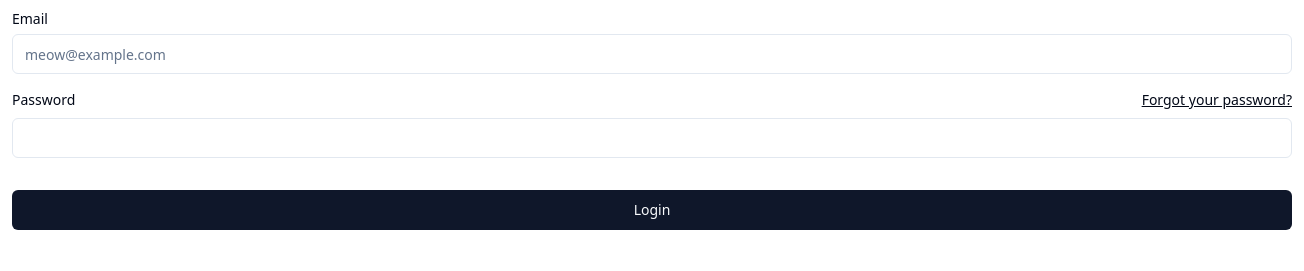
EmailLogIn Component › displays server error message on server error
Fill out form fields
Type "test@example.com" into the field labelled "Email" at (652, 54), box x1=12 y1=34 x2=1292 y2=74
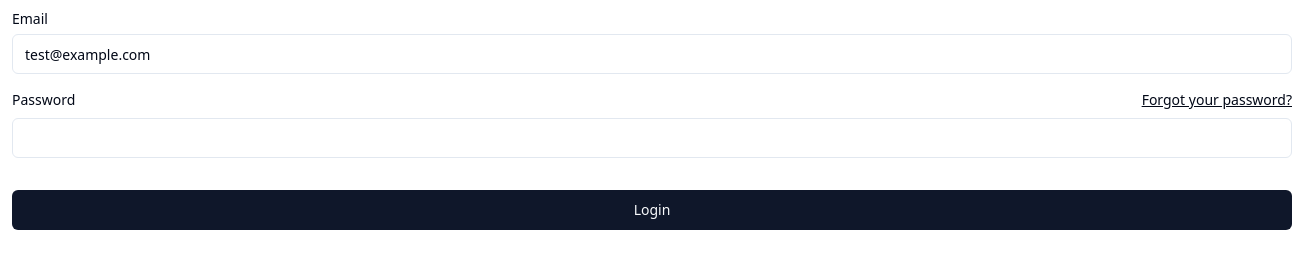
Type "password123" into the password field labelled "Password" at (652, 138), box x1=12 y1=118 x2=1292 y2=158
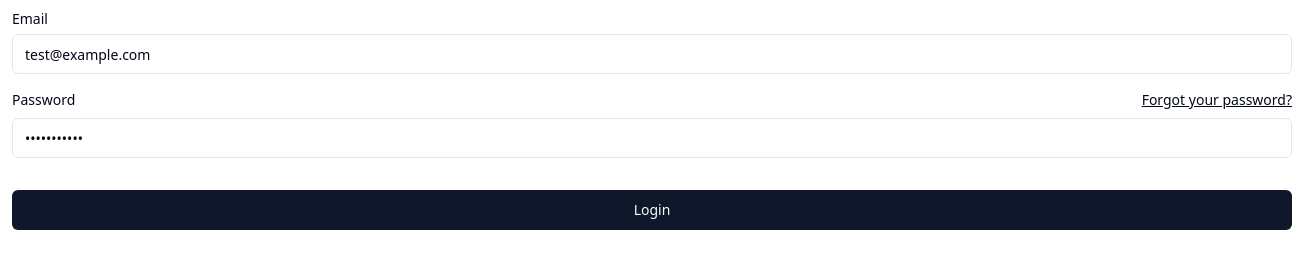
Submit the form
Click the button "Login" at (652, 210), box x1=12 y1=190 x2=1292 y2=230
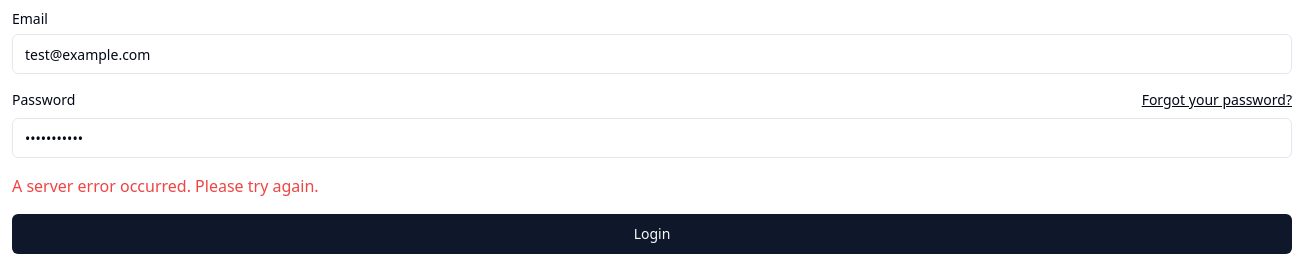
Check: the text "A server error occurred. Please try again." is shown, box x1=12 y1=175 x2=319 y2=197
